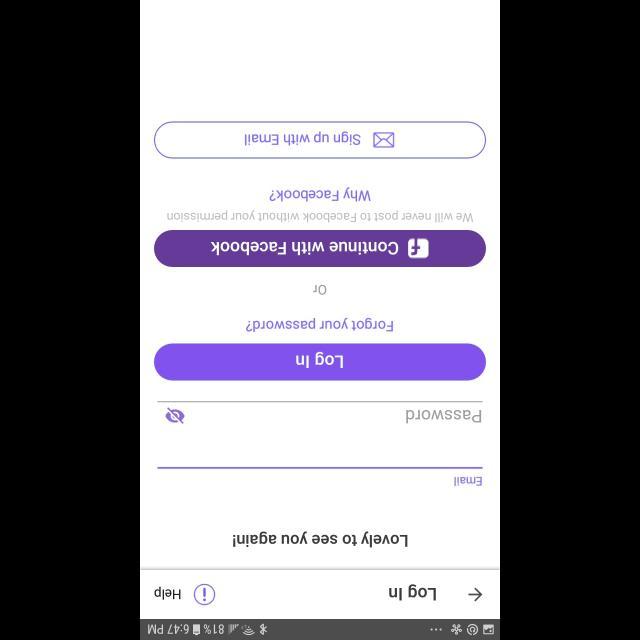icon: (193, 584, 215, 604), (166, 407, 184, 423), (468, 587, 482, 601)
input: (158, 401, 482, 424), (158, 466, 482, 486)
text: (168, 210, 472, 222), (233, 531, 407, 547), (245, 316, 392, 332), (270, 186, 370, 202), (406, 408, 480, 424), (388, 584, 436, 600), (154, 585, 182, 599), (454, 476, 482, 486), (312, 285, 326, 295)
textbutton: (154, 343, 486, 381), (154, 121, 486, 159), (154, 230, 486, 266)
uppertaskbar: (140, 618, 500, 640)
